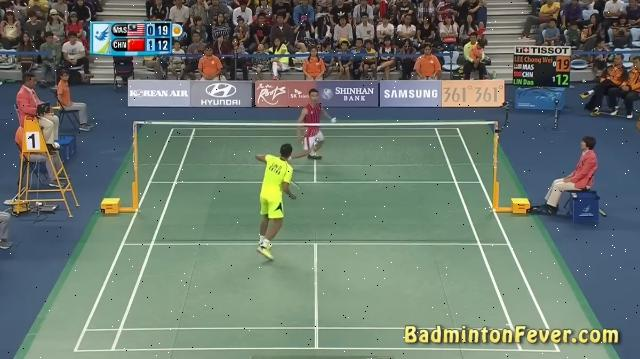Shuttlecock: (328, 114, 339, 126)
